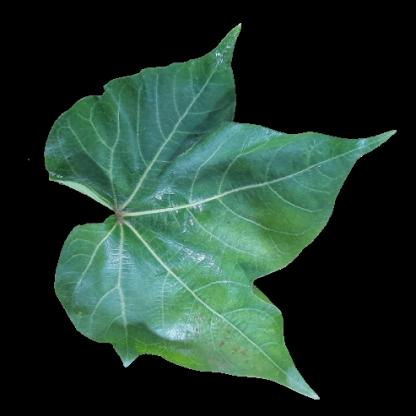curl_stage1: (187, 291, 286, 369), (213, 192, 308, 261)
healthy: (96, 110, 220, 175), (110, 209, 212, 275), (67, 264, 145, 317), (147, 70, 234, 112), (48, 138, 105, 183), (255, 149, 308, 187), (313, 134, 349, 189)
